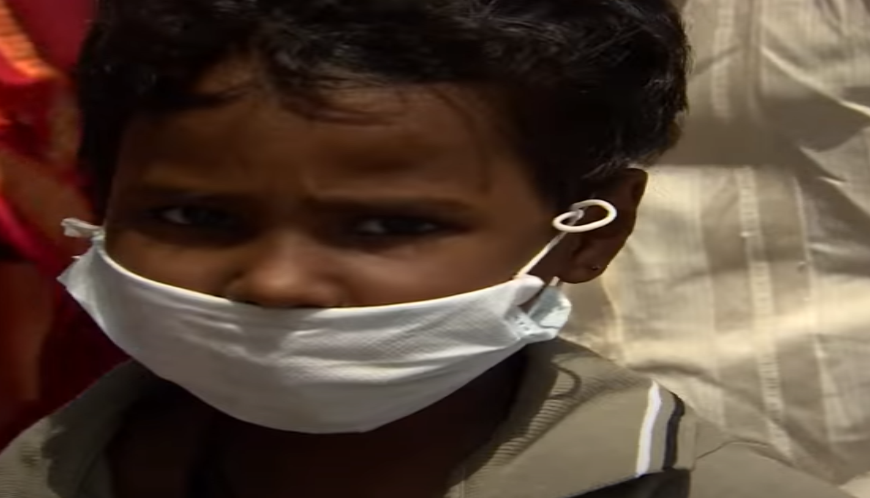mask_weared_incorrect: (54, 7, 635, 436)
